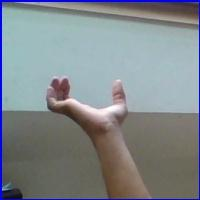B: (43, 71, 135, 131)
